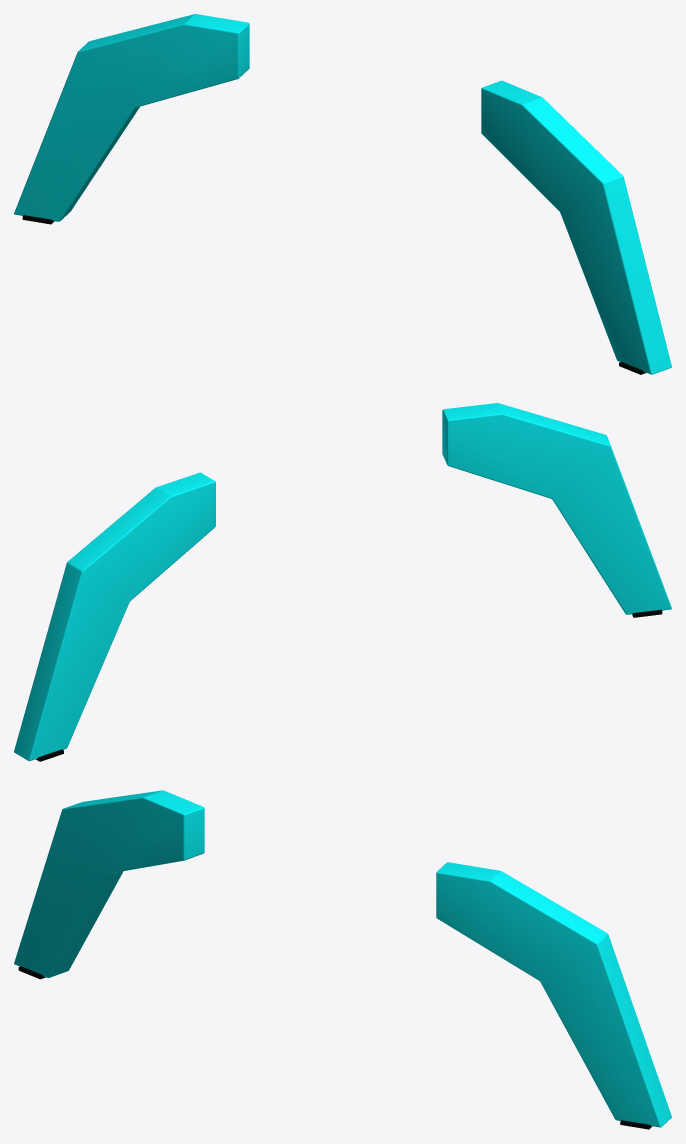
Rendered from levante_leg_corner_middle.gltf.
3 views of the same model, one above another, from view 1: azimuth 90°, elevation 25°; view 2: azimuth 150°, elevation 25°; view 3: azimuth 270°, elevation 25° (orthographic).
Parts seen in each view (by area): view 1: leg_corner_middle; view 2: leg_corner_middle; view 3: leg_corner_middle.
Part boxes in pixels (x1,y1,x2,y2): leg_corner_middle: (14, 14, 671, 374); leg_corner_middle: (14, 403, 671, 761); leg_corner_middle: (14, 790, 671, 1129).
Size of the model in its own units: 0.3417 by 0.206 by 0.5566.
